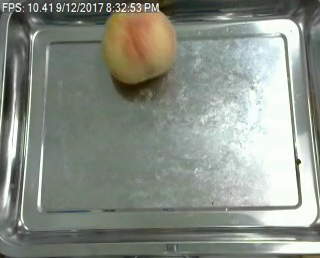Peach: (101, 3, 177, 84)
